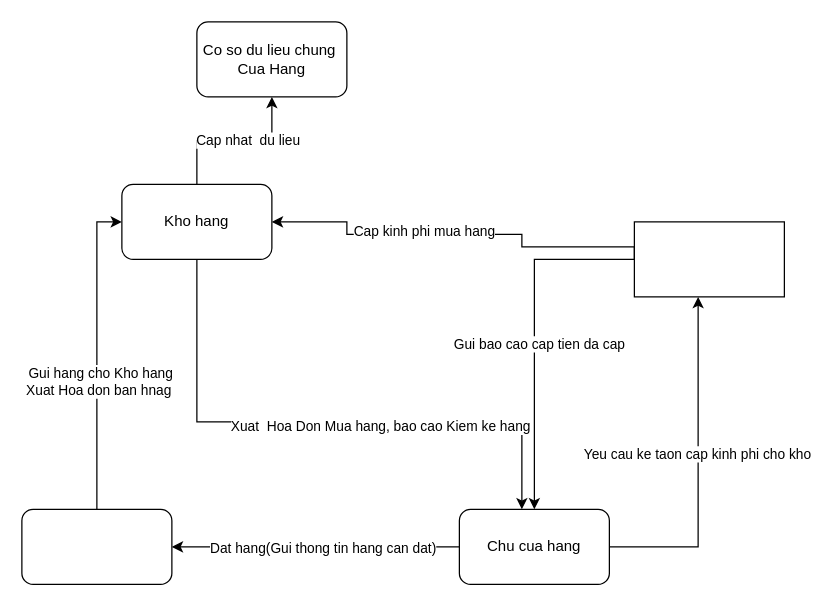
The diagram is 836 pixels wide and 606 high, and some of its shapes have lost their labels. Here are the shapes that lost their labels. From the top down, the centre of each, then its label:
At point (708, 259): "Ke toan".
At point (96, 546): "Nh phan phoi".
